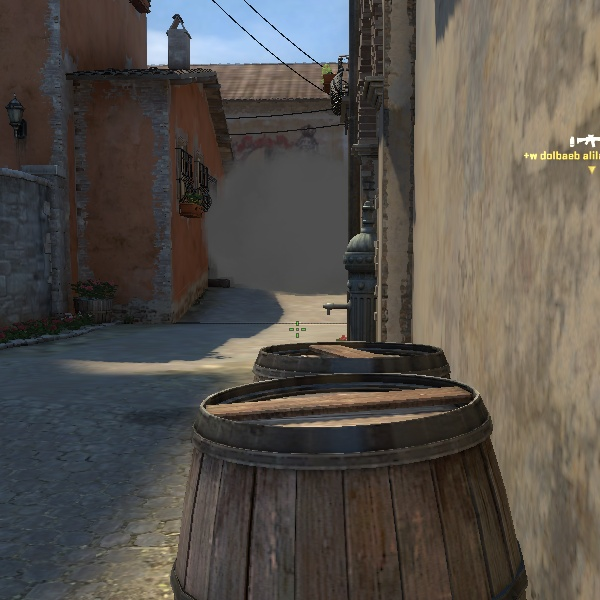ct_body: (336, 222, 383, 342)
